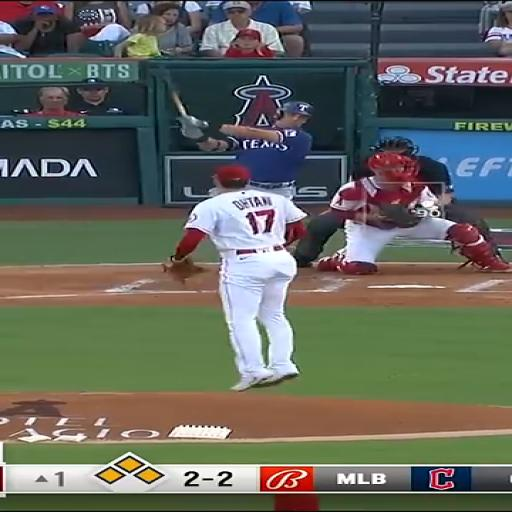bat: (171, 90, 187, 116)
